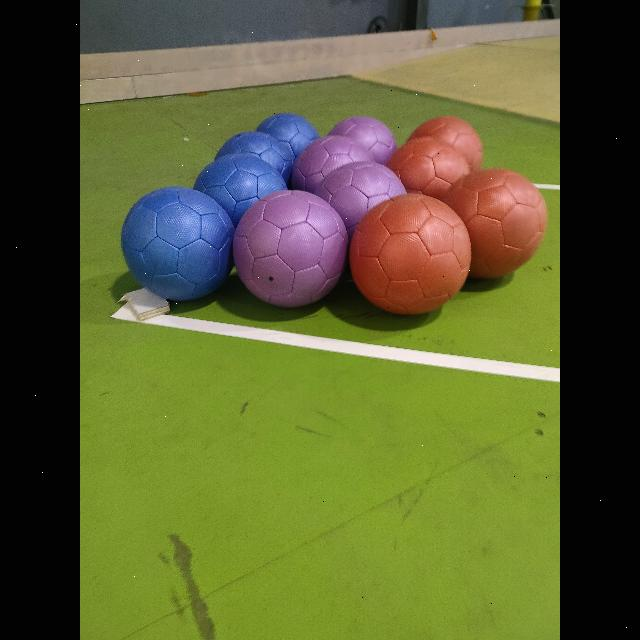B: (122, 187, 235, 301), (191, 156, 285, 240), (256, 112, 318, 158)
P: (233, 190, 347, 306), (318, 160, 407, 242), (329, 116, 397, 164)
R: (351, 193, 472, 313), (450, 173, 542, 279), (408, 116, 482, 170)
